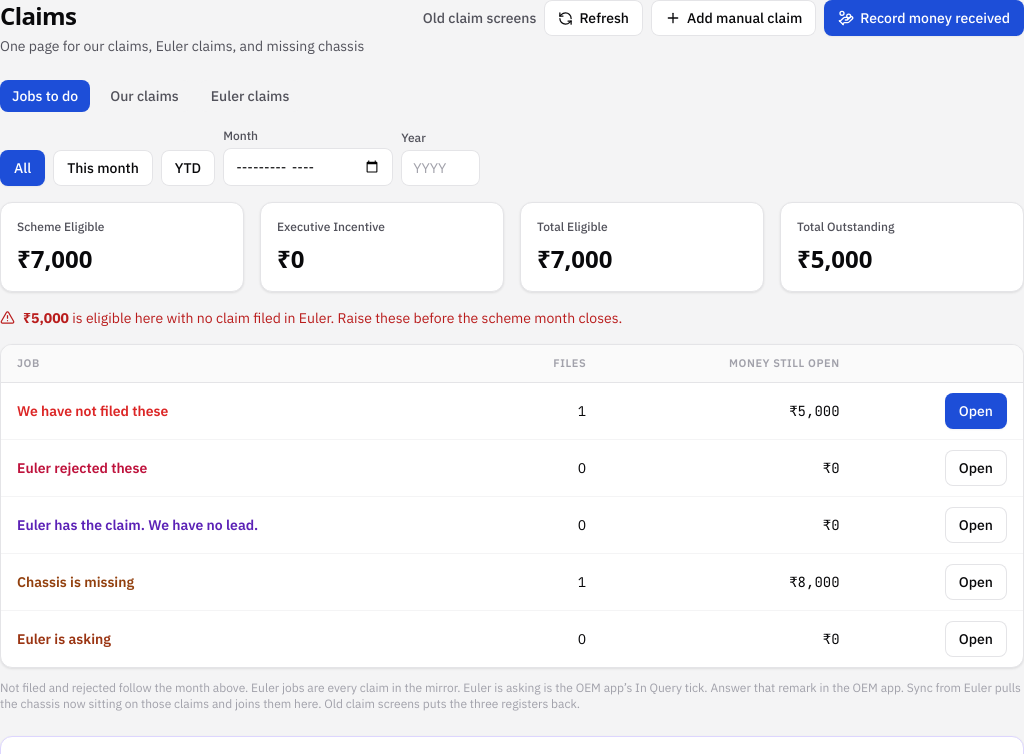
jobs open the unfiled claim and the old screens stay one click away
The image size is (1024, 754).
Later steps or results of the test are not shown.
expect the button with test id "claims-desk-switch" reads "Old claim screens": met, box [423,8,536,28]
Step 1. Click the button with test id "claims-job-not_claimed" → (976, 410), box [945,392,1007,428]
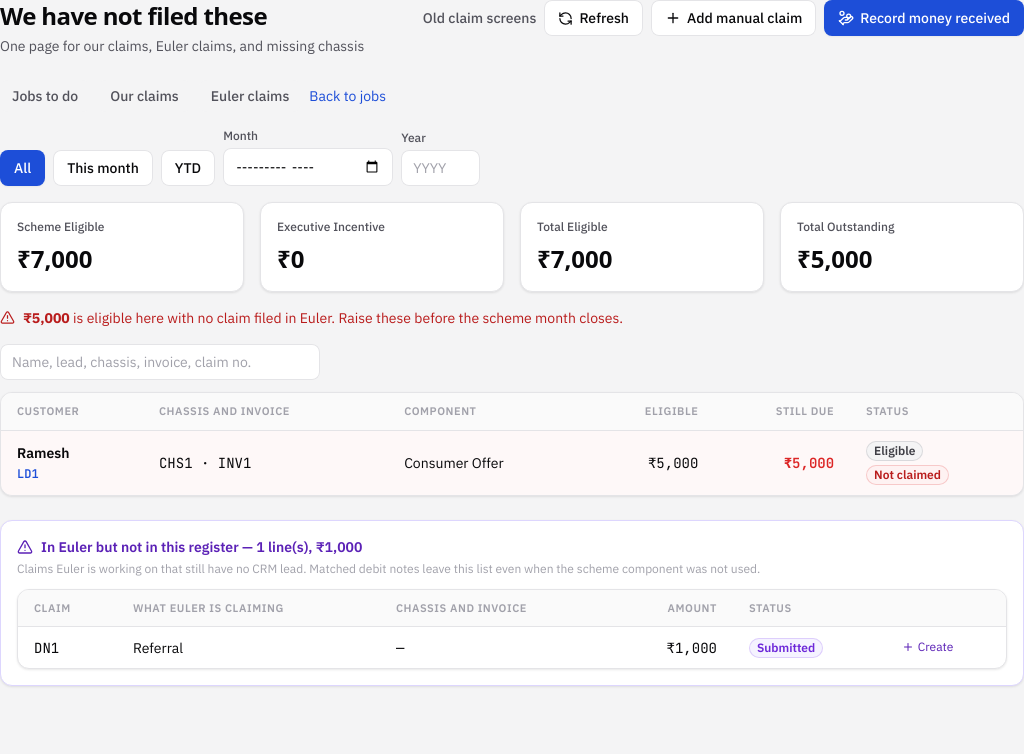
expect the button with test id "oem-only-create-DN1" is shown: met, box [902,638,953,654]
expect the text "Ramesh" is shown: met, box [17,444,70,462]
